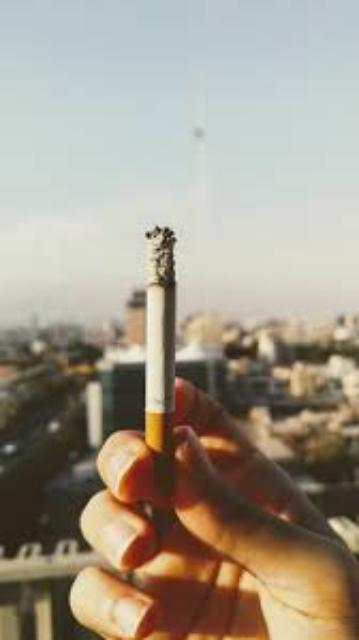Cigarette: (144, 223, 178, 497)
